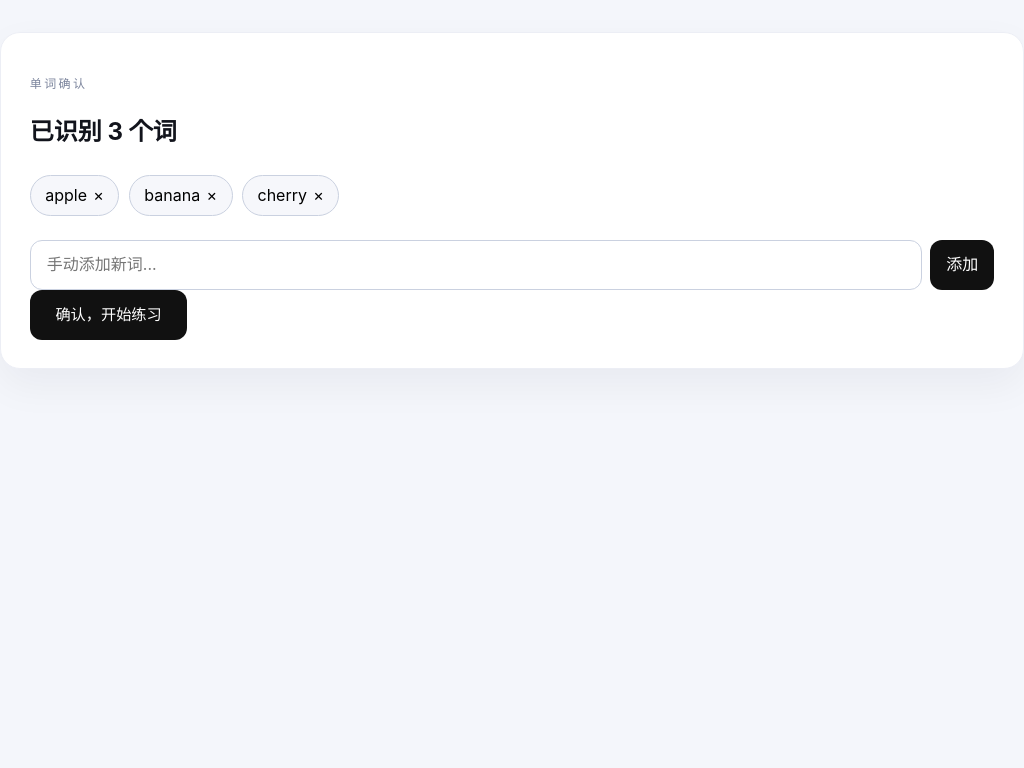
Test: ConfirmWordsPage - Vocabulary Details Toggle › Error handling (Requirements 3.4) › should show general error when quiz generation fails
Click the button "确认，开始练习" at (109, 315), box [30,290,187,340]
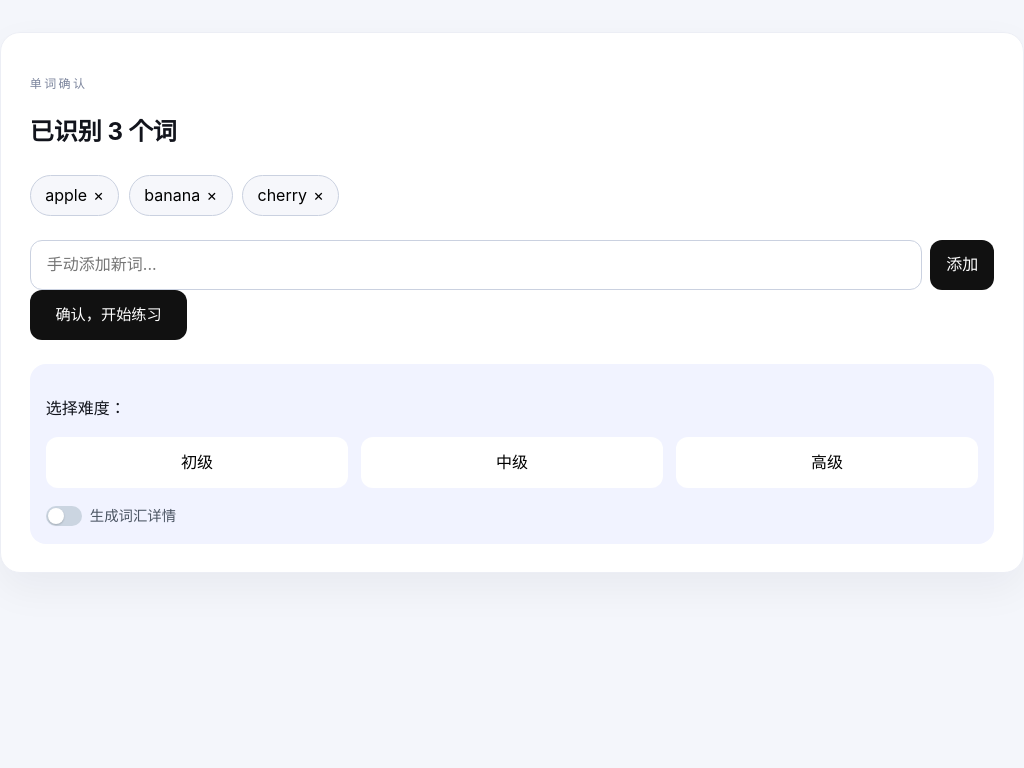
Click the button "初级" at (197, 463), box [46,437,348,488]
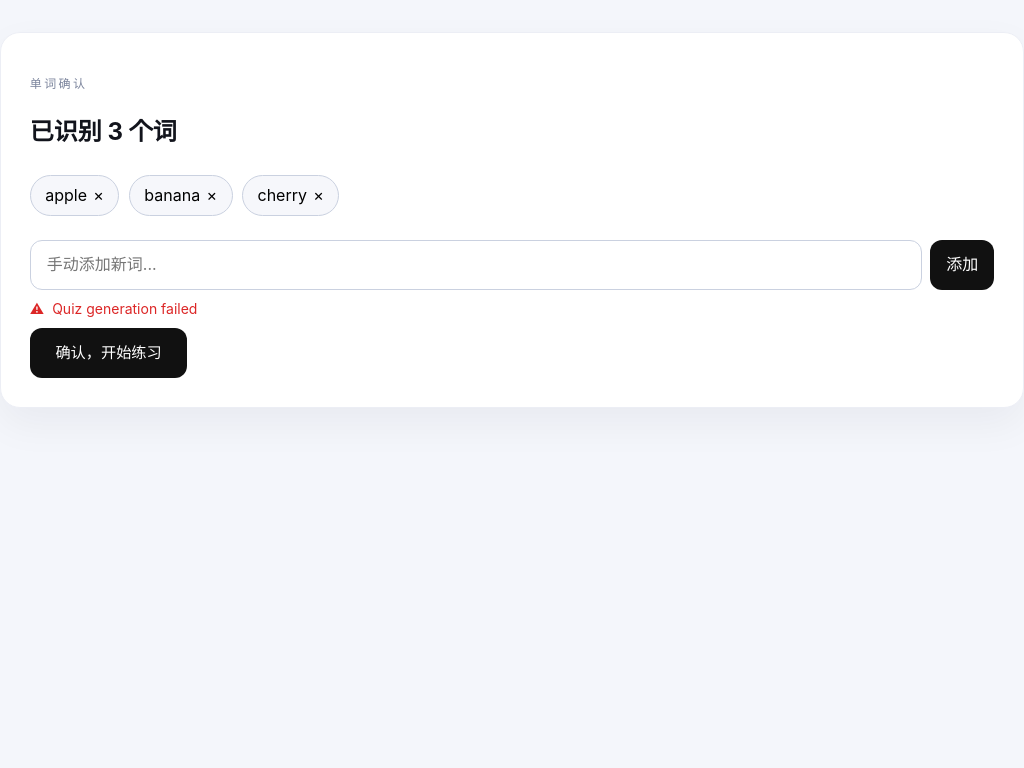
expect the text "Quiz generation failed" is shown: met, box [52,300,198,317]
